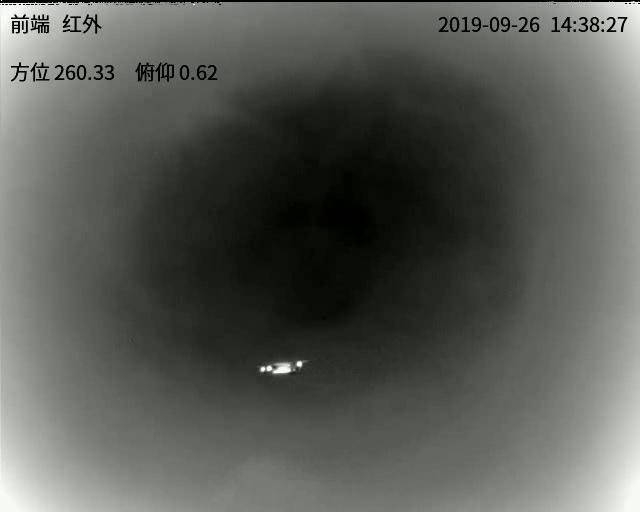DRONE: (255, 359, 308, 378)
